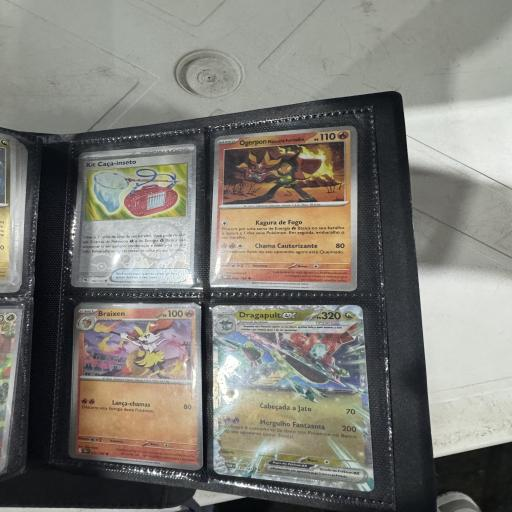card: (212, 304, 376, 496), (209, 121, 361, 291), (68, 303, 203, 471), (71, 141, 196, 288)
